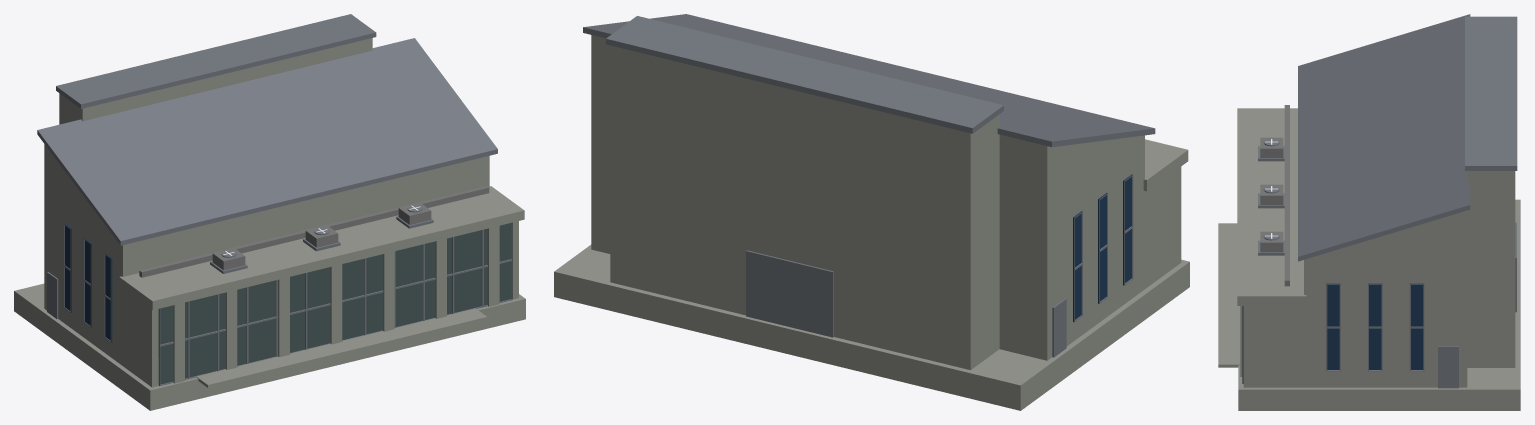
File: mashup-hall-top-prebuilt_close.fbx
3 renders of one model, left to right at view 1: azimuth 30°, elevation 25°; view 2: azimuth 150°, elevation 25°; view 3: azimuth 270°, elevation 25°, orthographic. The views are drawn at different scales.
Visible parts, largest first — view 1: a201.Hall.001; view 2: a201.Hall.001; view 3: a201.Hall.001.
Boxes of the visible parts, left/top/right/bottom form: a201.Hall.001: left=14, top=14, right=525, bottom=410; a201.Hall.001: left=554, top=14, right=1189, bottom=410; a201.Hall.001: left=1218, top=14, right=1520, bottom=410.
Bounding box in the file's own units: 21.6 × 11.85 × 14.45.
